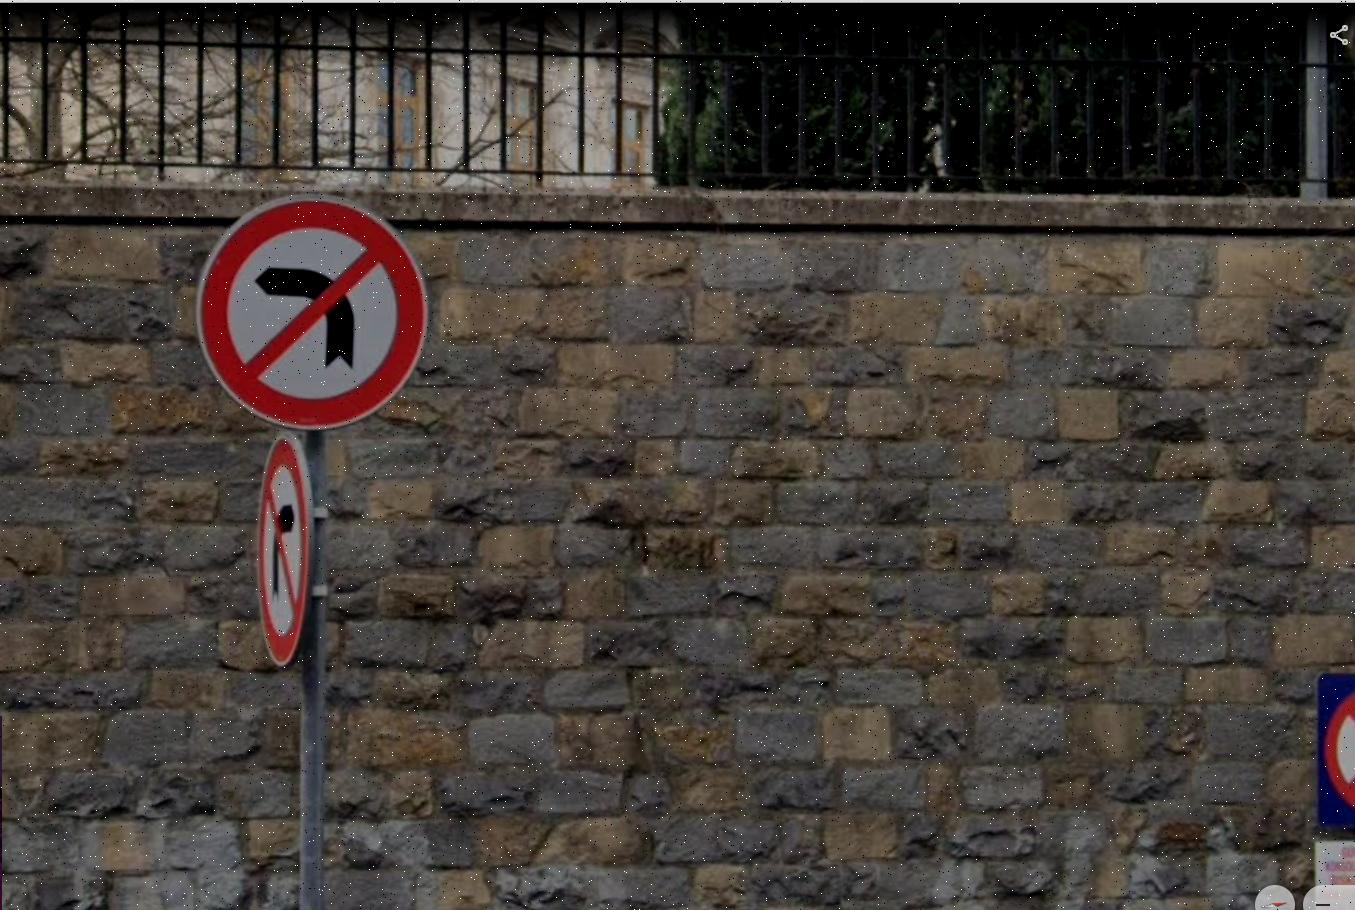leftturnsareforbidden: (209, 204, 418, 421)
rightturnsareforbidden: (252, 432, 314, 665)
